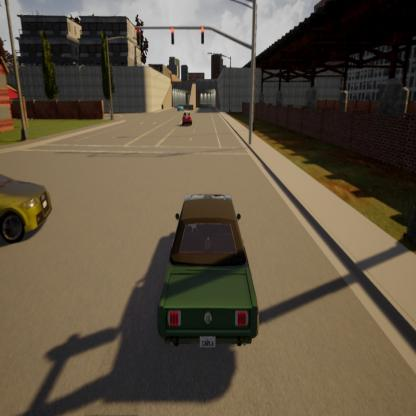Cars: (160, 192, 260, 351), (0, 170, 53, 243), (181, 113, 193, 128), (177, 102, 184, 114)
